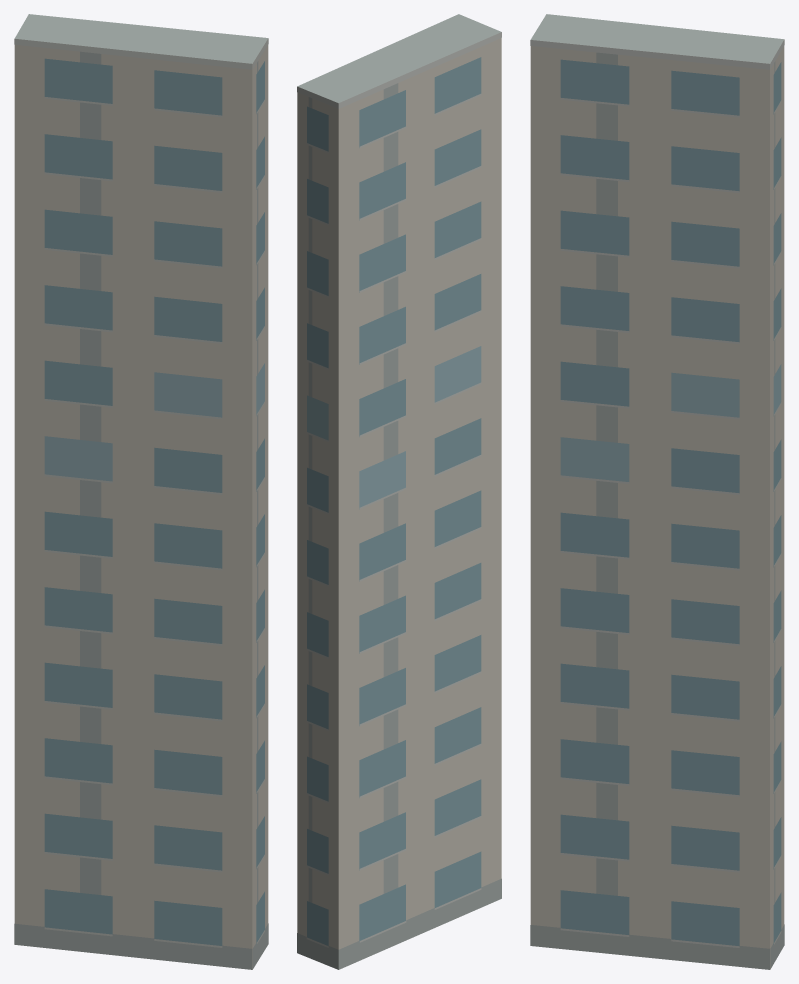
The model's file is survey-upis-32945635.glb.
The picture shows the model from 3 angles, left to right: view 1: azimuth 90°, elevation 25°; view 2: azimuth 150°, elevation 25°; view 3: azimuth 270°, elevation 25°; orthographic projection. The views are drawn at different scales.
Parts seen in each view (by area): view 1: survey-upis-32945635.tmp; view 2: survey-upis-32945635.tmp; view 3: survey-upis-32945635.tmp.
Boxes of the visible parts, bbox=[...] form: survey-upis-32945635.tmp: bbox=[14, 14, 268, 969]; survey-upis-32945635.tmp: bbox=[297, 14, 501, 969]; survey-upis-32945635.tmp: bbox=[530, 14, 784, 969].
Bounding box in the file's own units: 4.33 × 36.6 × 9.31.
